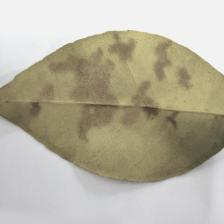canker: (52, 41, 202, 125)
